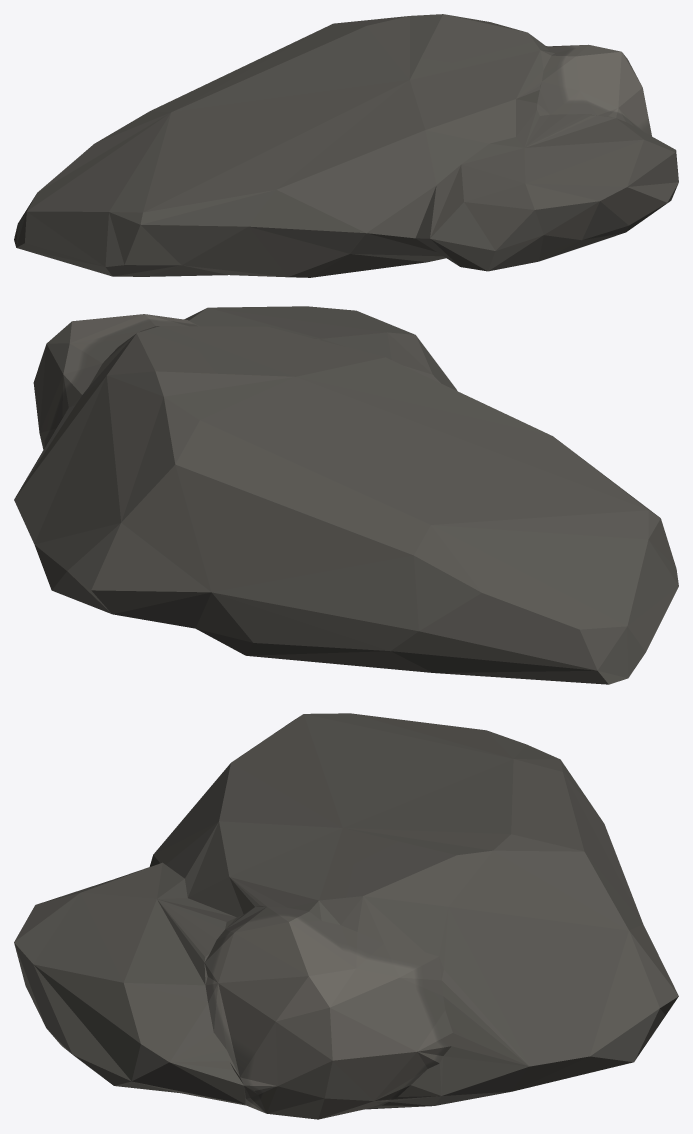
The model's file is bog_rock.gltf.
The picture shows the model from 3 angles, top to bottom: view 1: azimuth 30°, elevation 25°; view 2: azimuth 150°, elevation 25°; view 3: azimuth 270°, elevation 25°; orthographic projection. The views are drawn at different scales.
Parts seen in each view (by area): view 1: bog_rock; view 2: bog_rock; view 3: bog_rock.
Part boxes in pixels (box(x1,y1,x2,y2)): bog_rock: box(14, 14, 678, 277); bog_rock: box(14, 306, 678, 684); bog_rock: box(14, 713, 678, 1119).
Size of the model in its own units: 5.75 by 1.53 by 4.32.
1 material, 1 textured.
